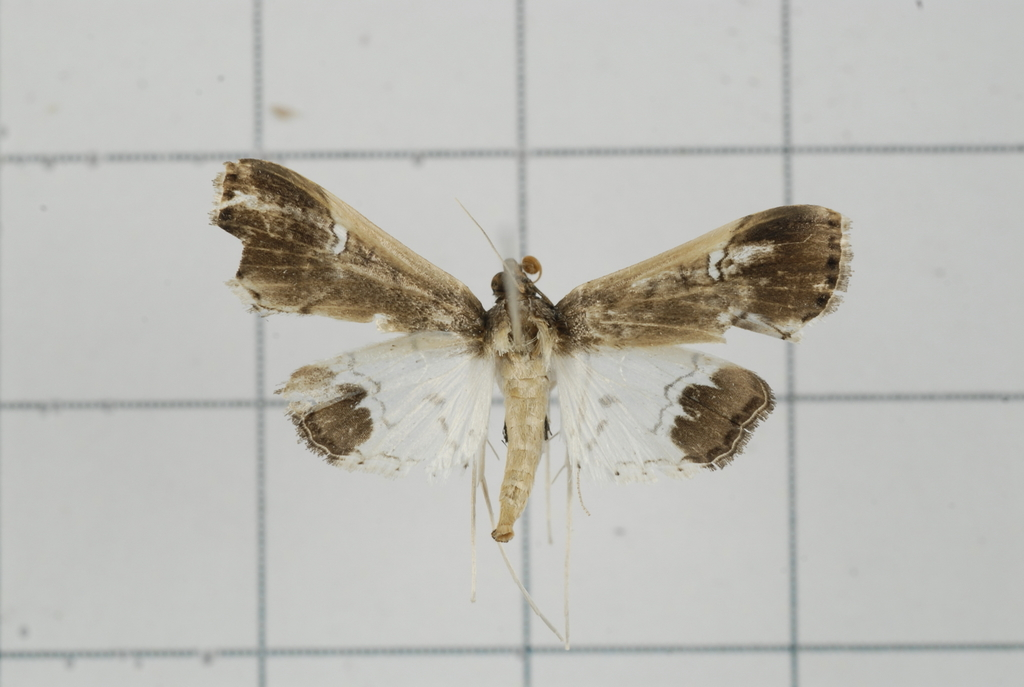Butterfly: (206, 137, 888, 601)
